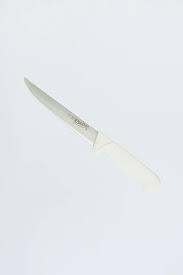Knife: (23, 76, 161, 190)
